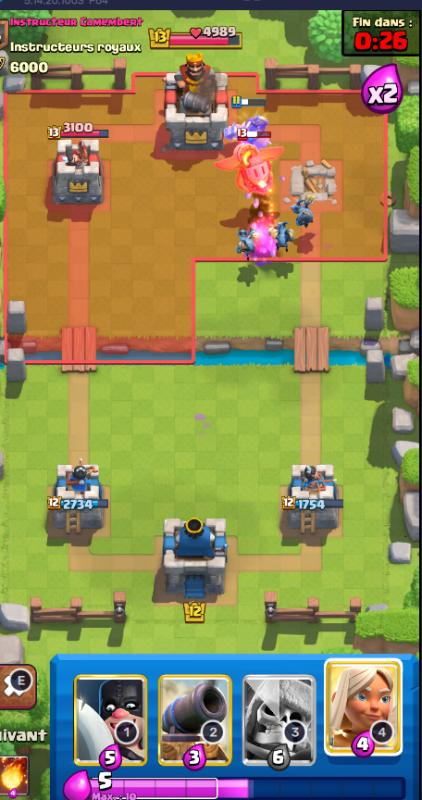gargouille: (229, 226, 256, 263), (296, 196, 314, 232), (270, 228, 298, 251)
